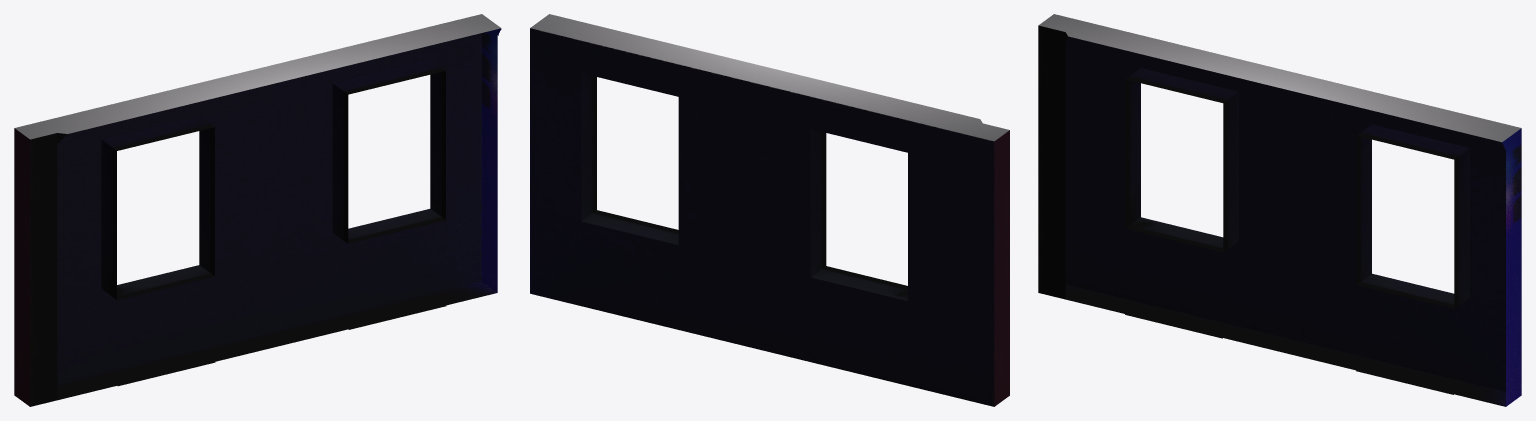
The model's file is wall_right_back.glb.
3 views of the same model, side by side, from view 1: azimuth 30°, elevation 25°; view 2: azimuth 150°, elevation 25°; view 3: azimuth 330°, elevation 25° (orthographic).
Parts seen in each view (by area): view 1: wall_right_back; view 2: wall_right_back; view 3: wall_right_back.
Part boxes in pixels (x1=…): wall_right_back: x1=14, y1=14, x2=501, y2=406; wall_right_back: x1=530, y1=14, x2=1009, y2=406; wall_right_back: x1=1038, y1=14, x2=1521, y2=406.
Bounding box in the file's own units: 34.4 × 18.8 × 2.48.
Materials: 1 (1 with a texture image).
